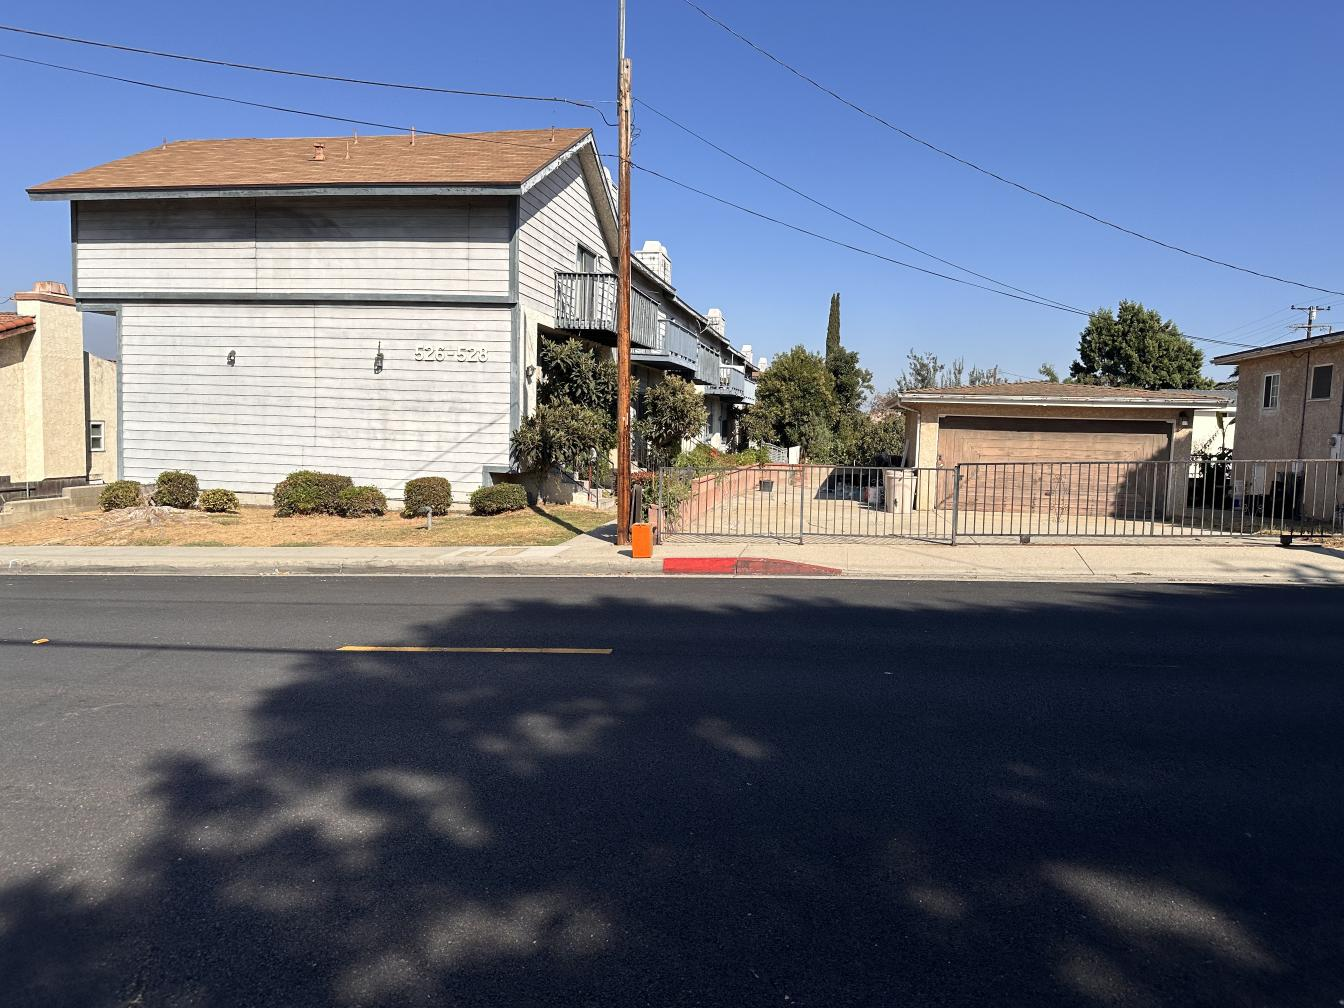curbs-laRr: (0, 548, 665, 578)
orange box: (630, 517, 658, 561)
